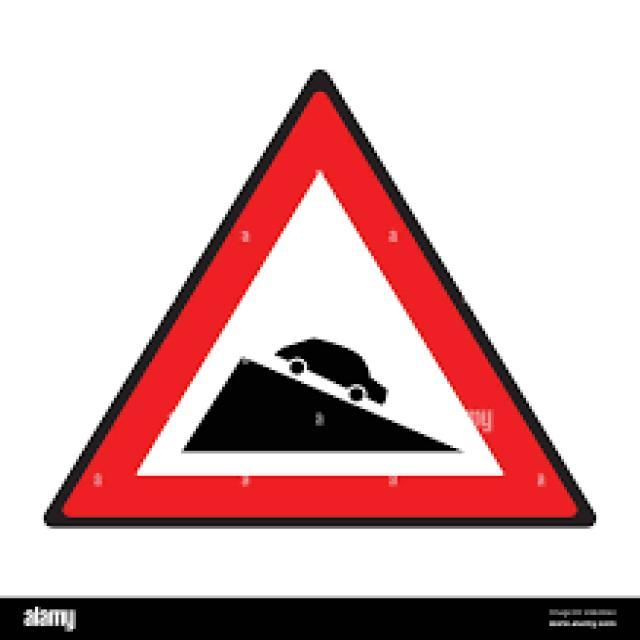steep descent: (36, 61, 598, 537)
